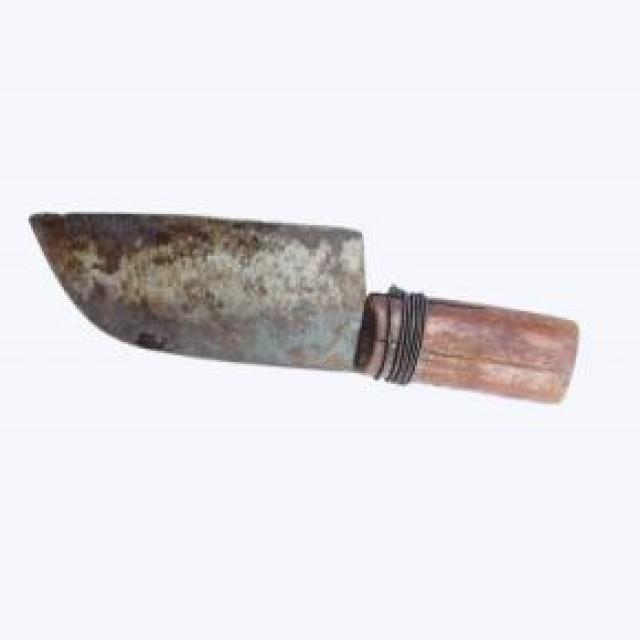knife: (28, 210, 580, 406)
